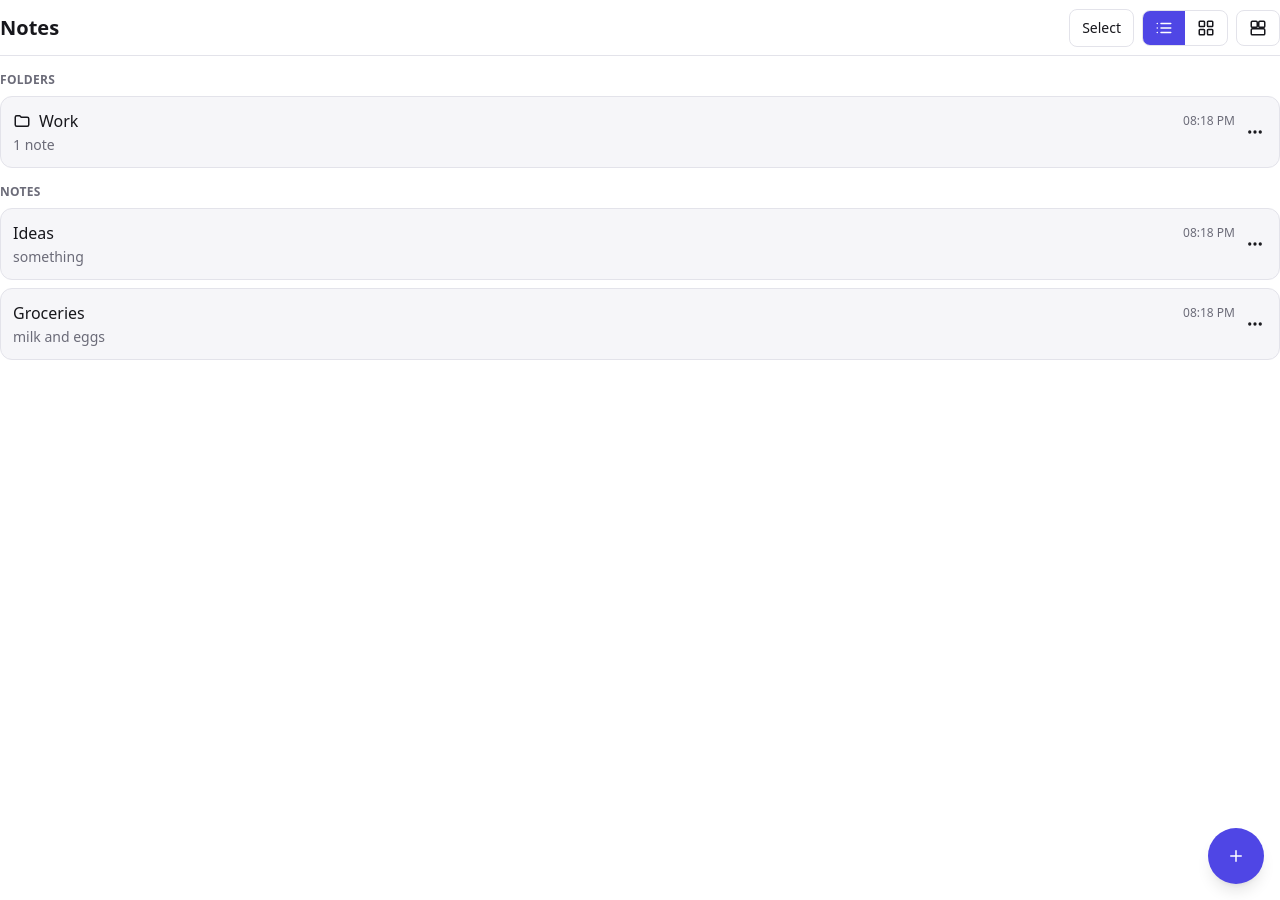
Test: selection bar: phone "More" menu › still asks before deleting, with the icon-only Delete button
Step 1. Click the button "Select" → (1102, 28), box [1069,8,1134,46]
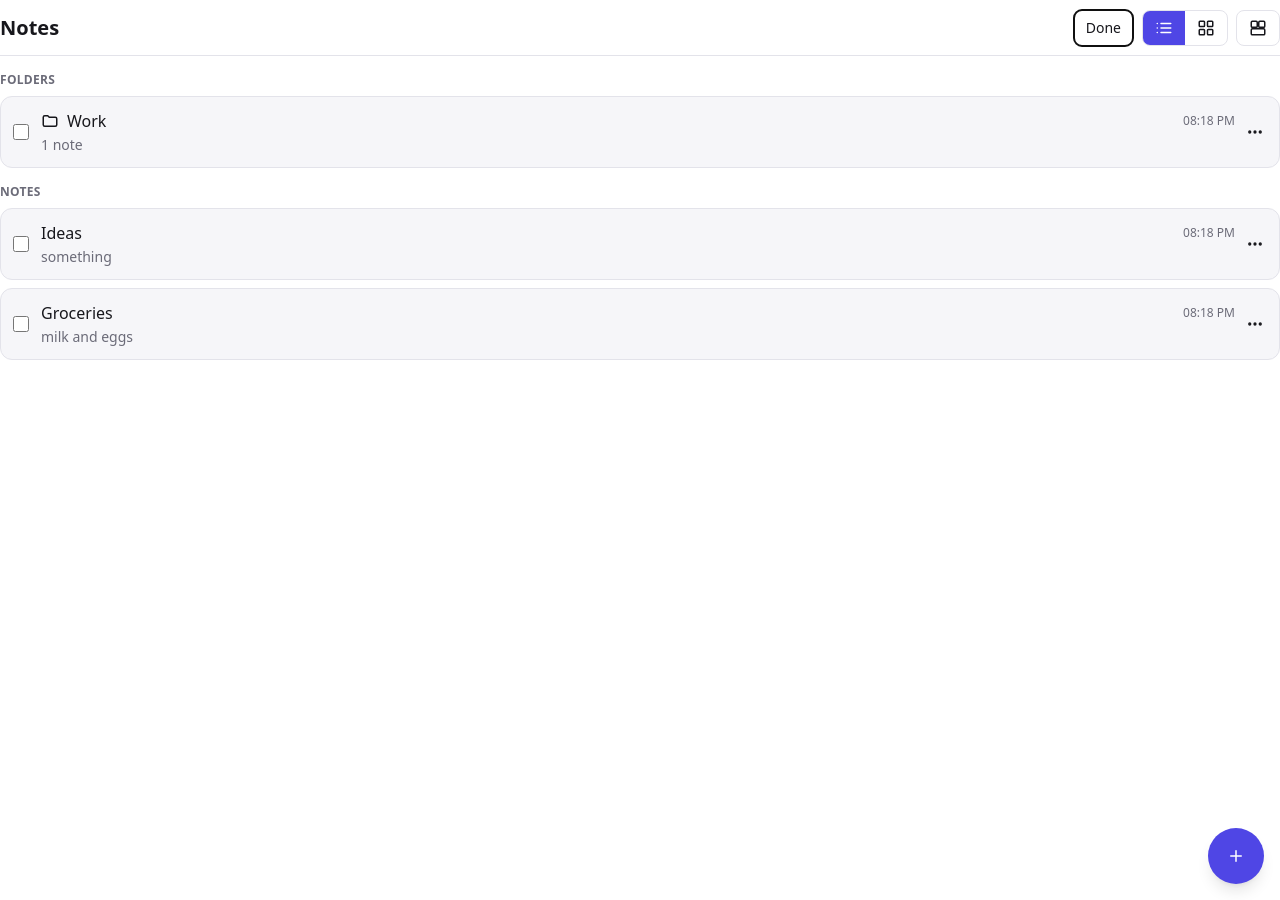
Step 2. Click the checkbox named "Select Groceries" → (21, 324), box [13,316,29,332]
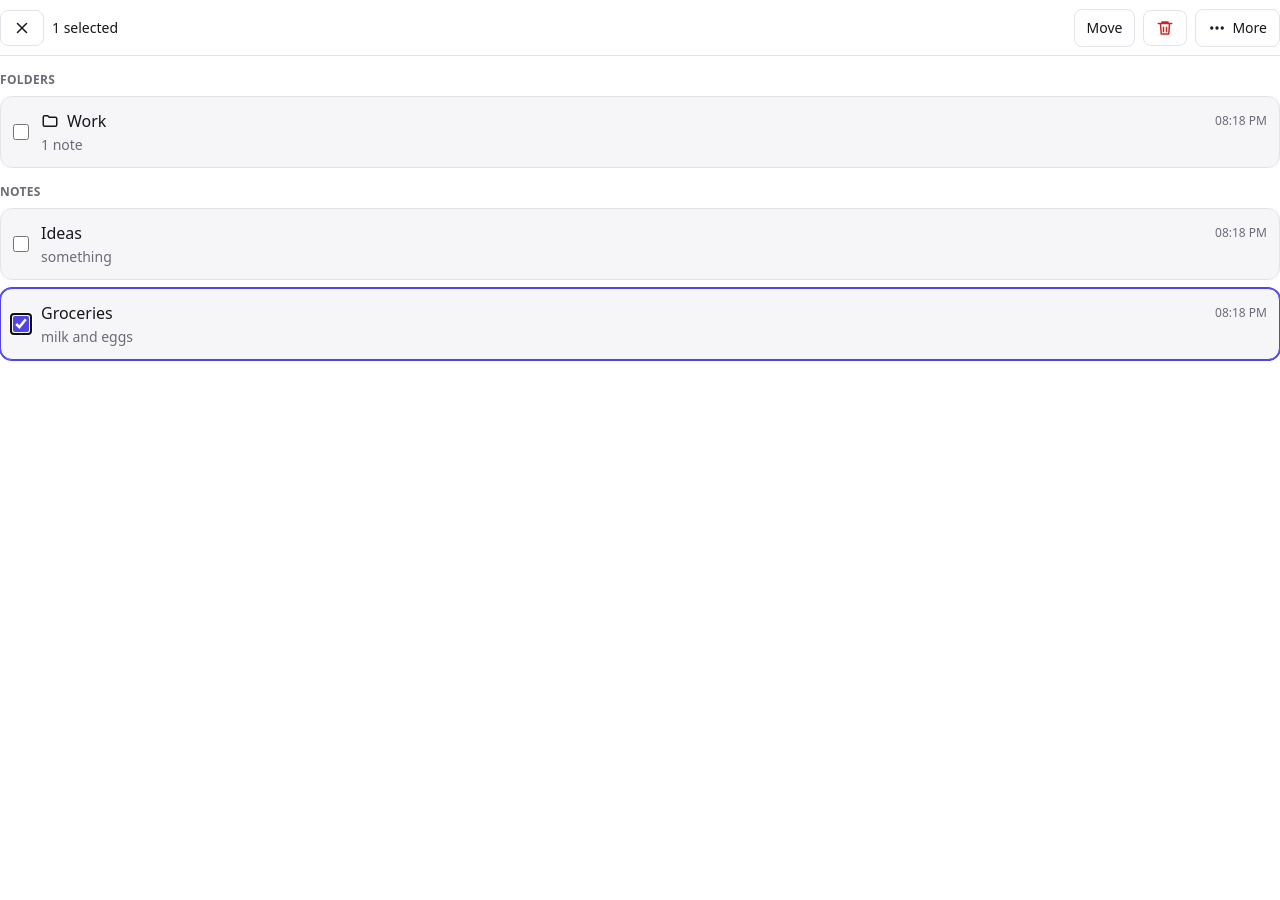
Step 3. Click the button named "Delete" → (1165, 28), box [1143,10,1187,46]
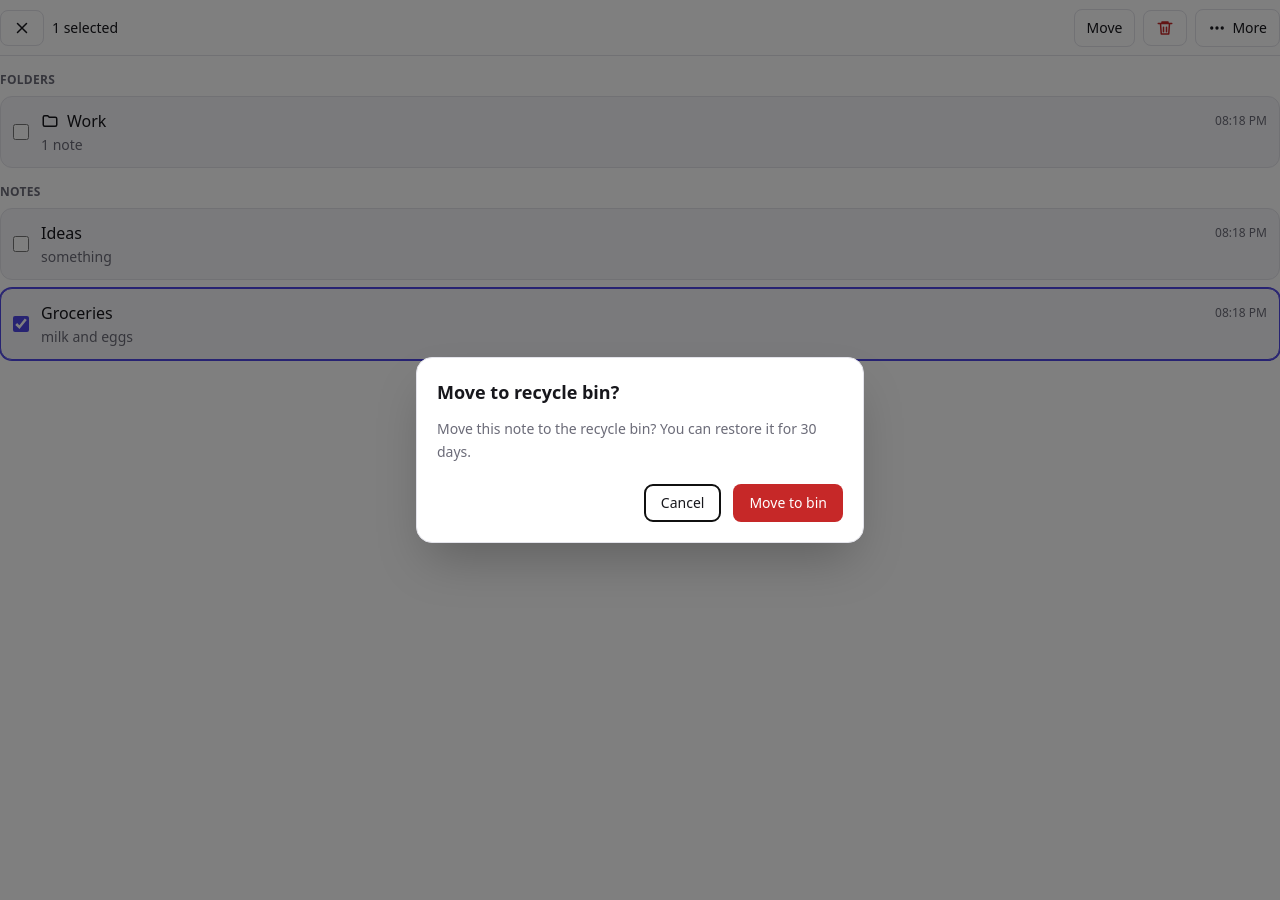
Result: the heading "Move to recycle bin?" is shown at [437,380,619,404]
